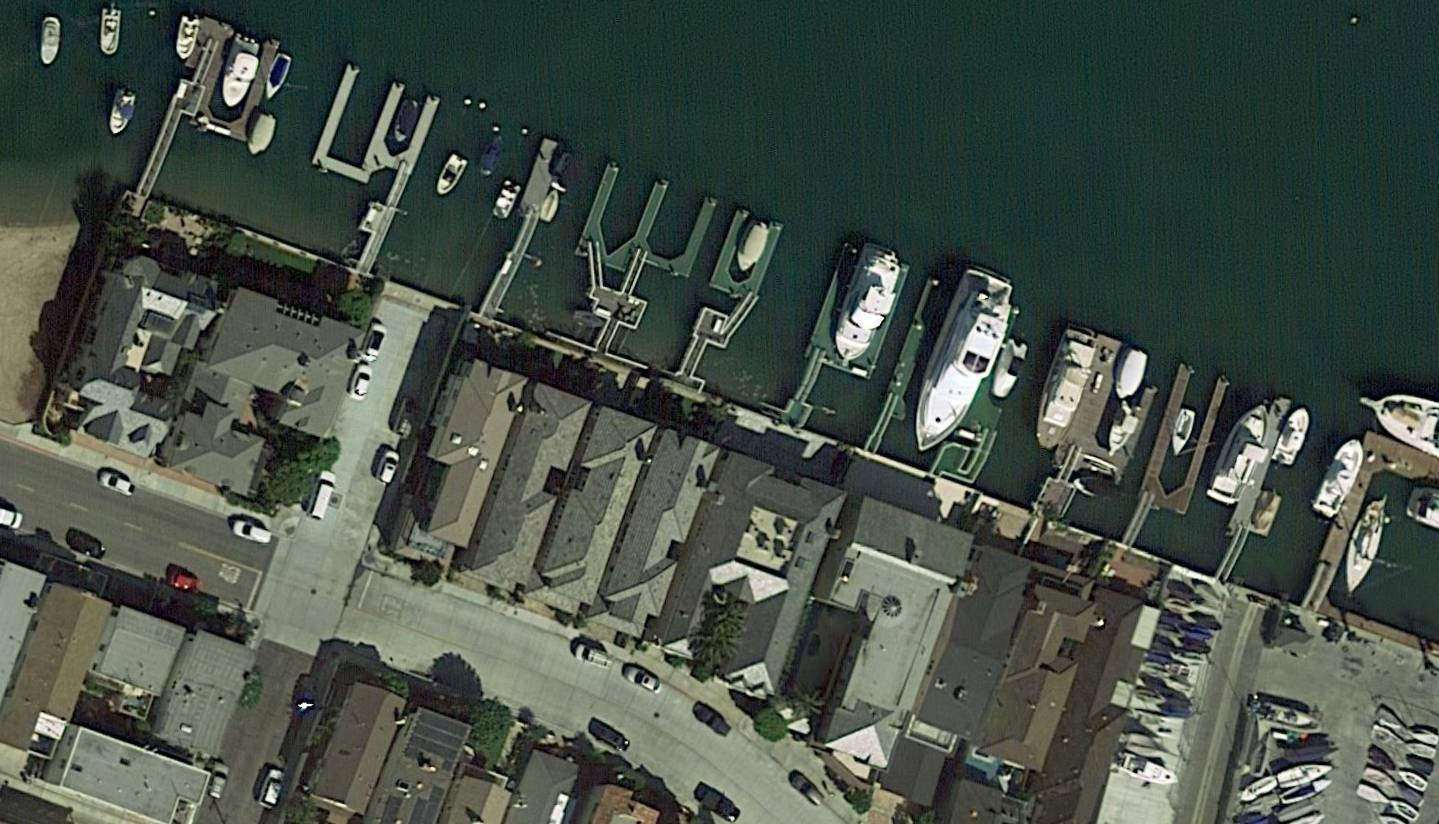harbor: (868, 277, 1036, 486), (279, 64, 441, 274), (550, 161, 719, 361), (139, 18, 283, 218), (1305, 432, 1438, 634), (1037, 334, 1168, 533), (784, 247, 910, 438), (1126, 367, 1229, 555), (681, 211, 783, 388), (1212, 397, 1298, 580), (484, 141, 568, 317)
ship: (898, 264, 1026, 466), (1023, 324, 1099, 456), (829, 243, 903, 365), (1205, 395, 1280, 510), (1350, 373, 1439, 459), (1336, 494, 1393, 602), (1312, 433, 1371, 521), (214, 36, 262, 112), (1271, 402, 1315, 468), (1117, 751, 1182, 791), (1110, 348, 1149, 404), (732, 220, 771, 276), (1275, 758, 1338, 792), (1105, 402, 1142, 459), (430, 151, 470, 201), (1278, 776, 1335, 808), (104, 88, 137, 140), (261, 52, 294, 103), (245, 112, 278, 159), (174, 15, 201, 60), (99, 9, 122, 56), (1360, 765, 1398, 792), (41, 17, 61, 68), (1353, 782, 1392, 808), (1387, 796, 1423, 824), (1395, 767, 1430, 794), (1403, 738, 1438, 760)
small vehicle: (301, 468, 341, 523), (588, 718, 633, 760), (691, 700, 736, 739), (357, 319, 391, 368), (621, 664, 666, 700), (788, 772, 828, 811), (288, 674, 321, 718), (256, 766, 288, 811), (345, 362, 378, 404), (66, 534, 110, 563), (574, 641, 616, 671), (230, 518, 273, 547), (98, 470, 138, 499), (202, 763, 232, 800), (167, 570, 205, 599), (374, 448, 403, 486), (238, 673, 266, 711)
